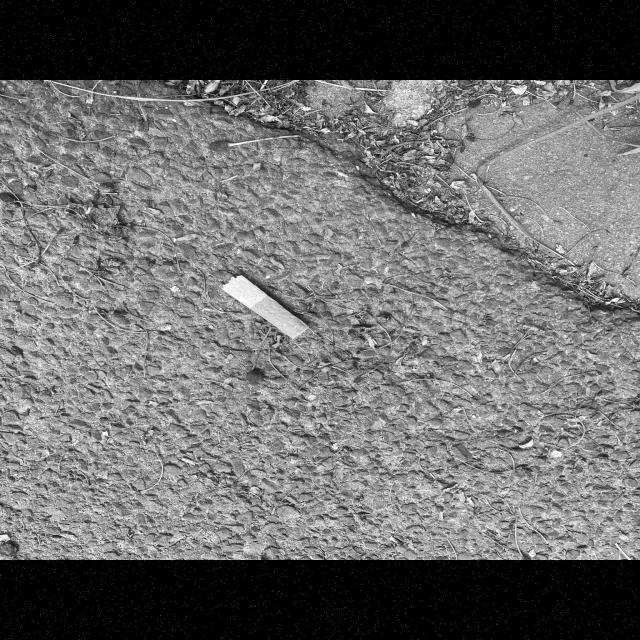other waste: (222, 274, 310, 340)
